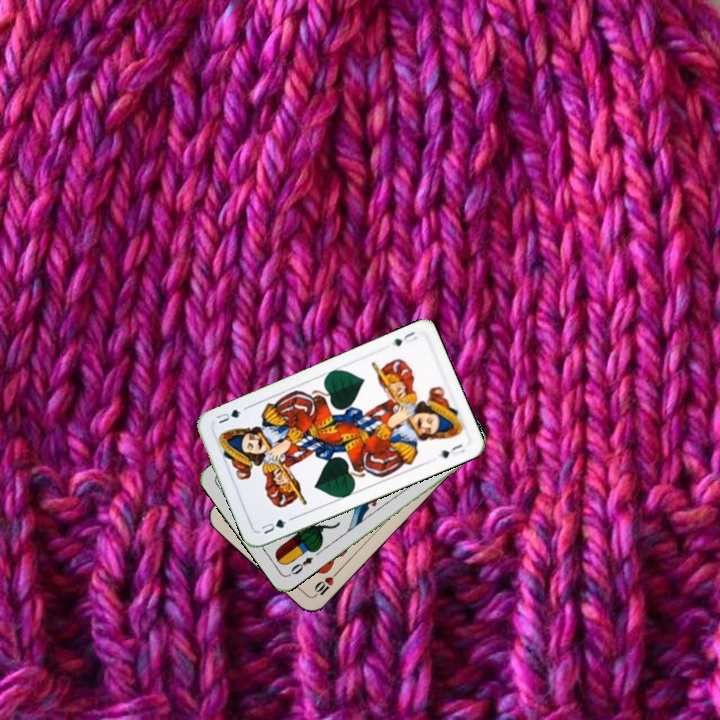EO: (284, 553, 316, 579)
GU: (387, 327, 420, 349), (257, 515, 289, 537)
H10: (309, 568, 341, 600)
